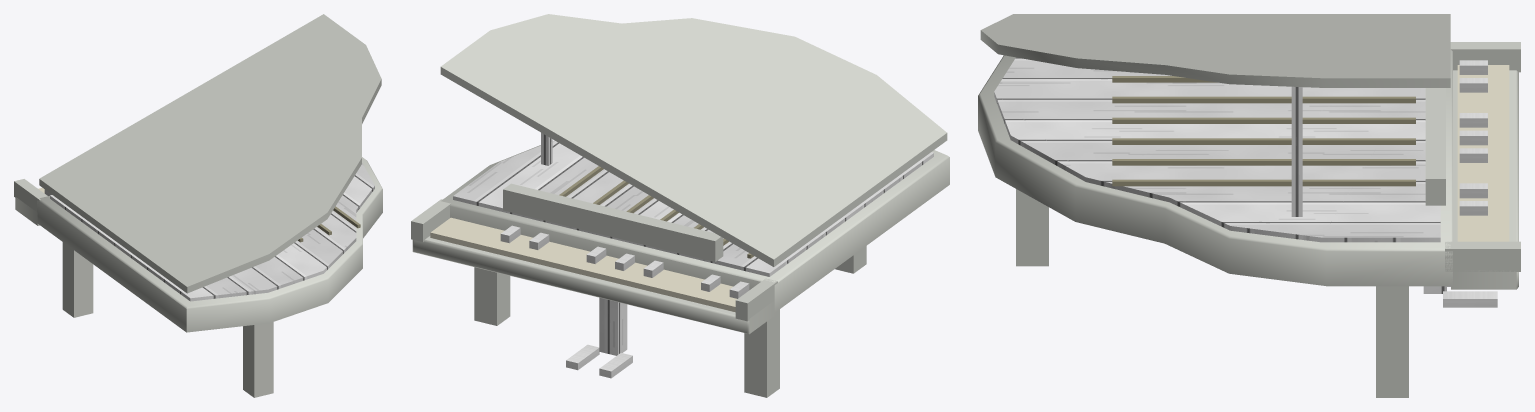
File: piano.obj
3 renders of one model, left to right at view 1: azimuth 30°, elevation 25°; view 2: azimuth 150°, elevation 25°; view 3: azimuth 270°, elevation 25°, orthographic. The views are drawn at different scales.
Parts seen in each view (by area): view 1: source_component_024, source_component_000, source_component_001, source_component_011, source_component_009, source_component_021; view 2: source_component_024, source_component_000, source_component_001, source_component_013, source_component_012, source_component_023, source_component_009, source_component_010, source_component_026, source_component_021, source_component_022, source_component_028 (+1 smaller); view 3: source_component_001, source_component_024, source_component_000, source_component_013, source_component_012, source_component_010, source_component_023, source_component_004, source_component_008, source_component_022, source_component_011, source_component_006 (+6 smaller).
Part boxes in pixels (<box>): source_component_024: <box>39,14,381,293</box>; source_component_000: <box>37,157,382,332</box>; source_component_001: <box>50,162,374,301</box>; source_component_011: <box>243,322,273,397</box>; source_component_009: <box>62,242,93,317</box>; source_component_021: <box>14,179,47,211</box>; source_component_024: <box>440,14,947,266</box>; source_component_000: <box>441,145,949,312</box>; source_component_001: <box>453,140,933,276</box>; source_component_013: <box>430,217,736,312</box>; source_component_012: <box>412,236,775,334</box>; source_component_023: <box>503,183,723,261</box>; source_component_009: <box>744,309,779,397</box>; source_component_010: <box>474,267,510,325</box>; source_component_026: <box>599,297,627,355</box>; source_component_021: <box>735,278,777,321</box>; source_component_022: <box>411,199,450,241</box>; source_component_028: <box>566,344,599,370</box>; source_component_001: <box>994,57,1440,242</box>; source_component_024: <box>980,14,1450,87</box>; source_component_000: <box>978,50,1452,286</box>; source_component_013: <box>1457,65,1509,241</box>; source_component_012: <box>1451,70,1518,289</box>; source_component_010: <box>1376,286,1408,397</box>; source_component_023: <box>1425,88,1445,205</box>; source_component_004: <box>1112,96,1415,103</box>; source_component_008: <box>1112,179,1415,186</box>; source_component_022: <box>1445,241,1520,271</box>; source_component_011: <box>1016,189,1048,266</box>; source_component_006: <box>1112,138,1415,144</box>.
Size of the model in its own units: 2.52 by 1.87 by 2.79.
